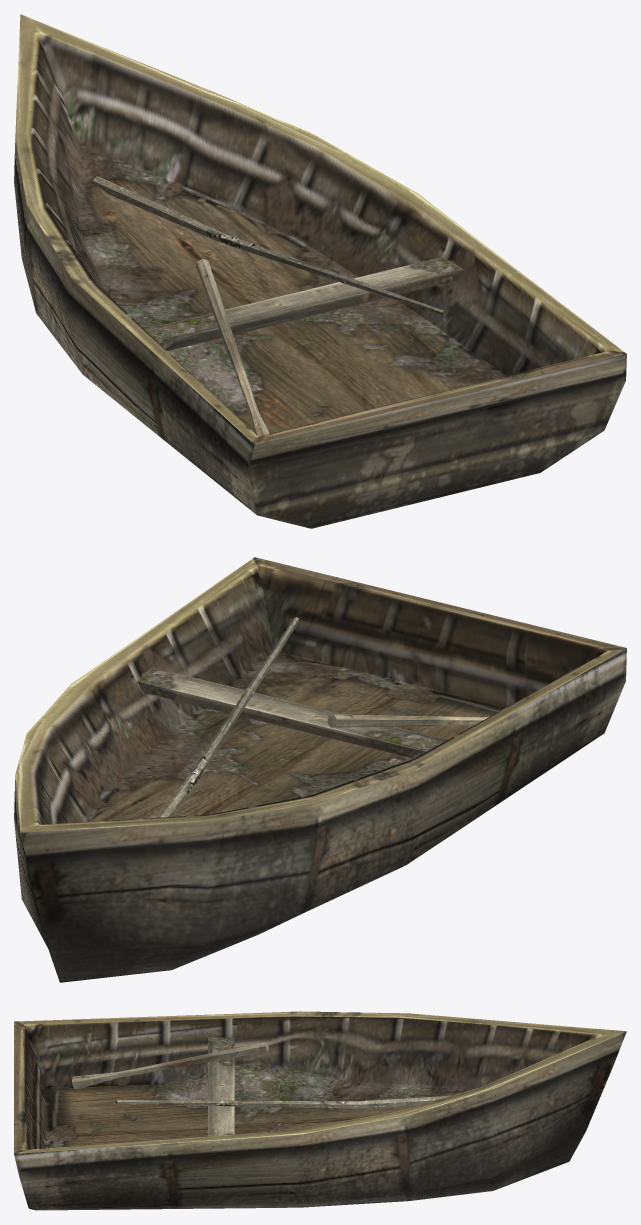
The model's file is Rowboat.FBX.
The picture shows the model from 3 angles, top to bottom: view 1: azimuth 30°, elevation 25°; view 2: azimuth 150°, elevation 25°; view 3: azimuth 270°, elevation 25°; orthographic projection. The views are drawn at different scales.
Parts seen in each view (by area): view 1: Rowboat; view 2: Rowboat; view 3: Rowboat.
Boxes of the visible parts, x1,y1,x2,y2 form: Rowboat: (14, 14, 626, 528); Rowboat: (14, 557, 626, 982); Rowboat: (14, 1011, 626, 1210).
Bounding box in the file's own units: 251 × 132 × 483.
Materials: 1 (1 with a texture image).
